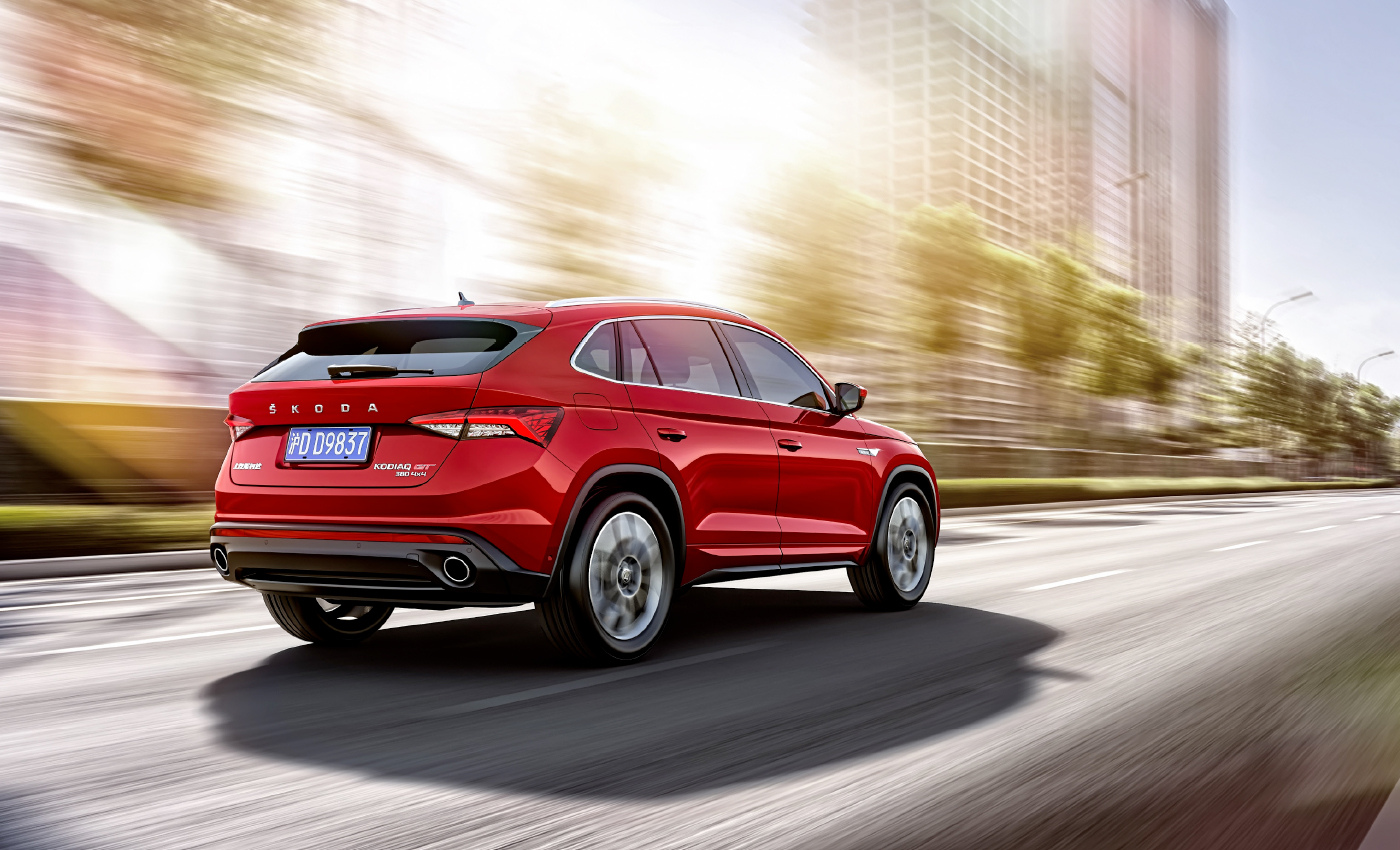car: (204, 298, 944, 666)
